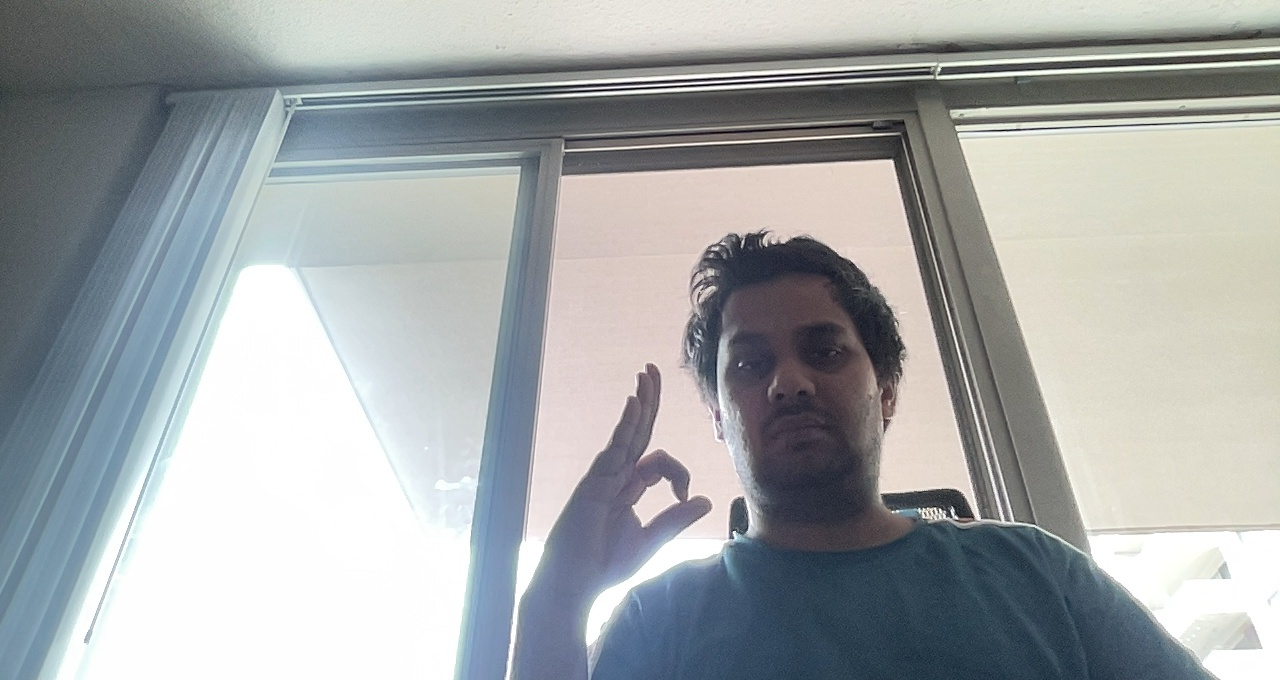ok: (539, 355, 716, 596)
